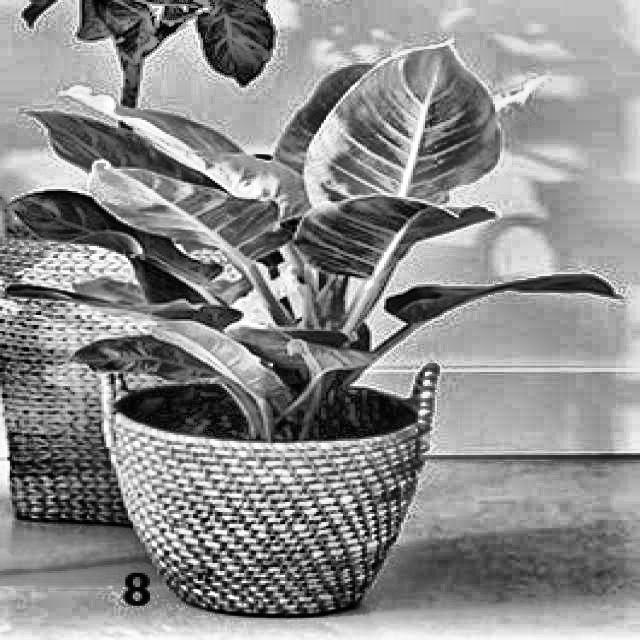plants: (29, 75, 526, 558)
